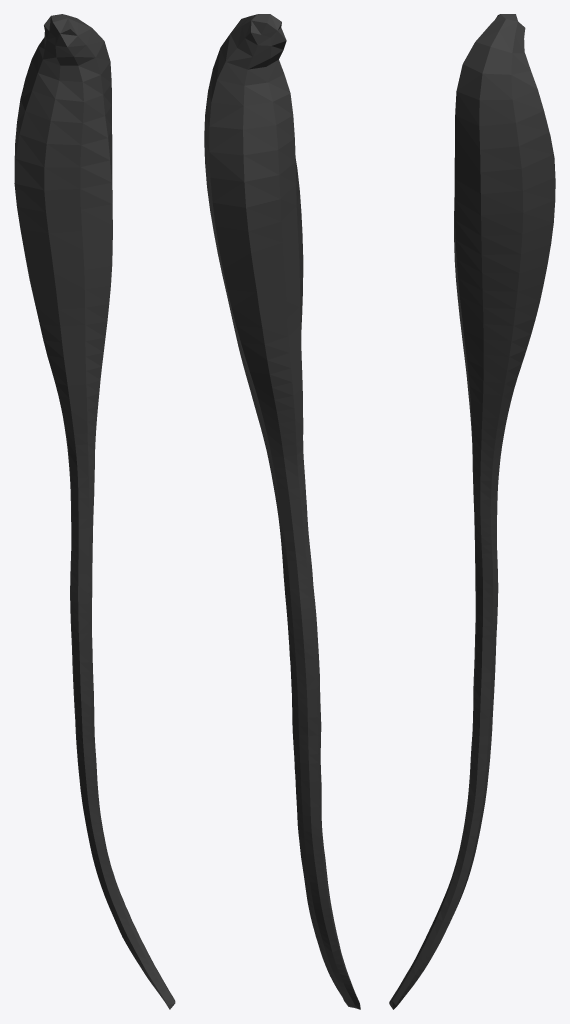
File: CDE.glb
3 renders of one model, left to right at view 1: azimuth 90°, elevation 25°; view 2: azimuth 150°, elevation 25°; view 3: azimuth 270°, elevation 25°, orthographic. The views are drawn at different scales.
Parts seen in each view (by area): view 1: CDE; view 2: CDE; view 3: CDE.
Boxes of the visible parts, x1,y1,x2,y2 form: CDE: [14, 14, 175, 1009]; CDE: [204, 14, 360, 1009]; CDE: [389, 14, 555, 1009].
Bounding box in the file's own units: 17.52 × 171 × 25.61.
Materials: 1 (1 with a texture image).
